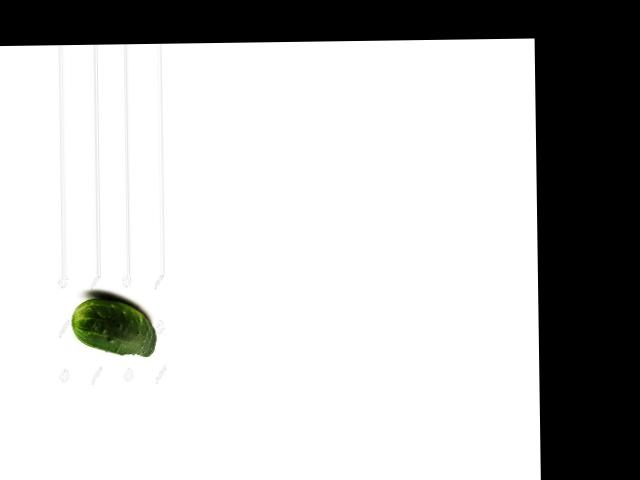cucumber: (70, 297, 156, 357)
